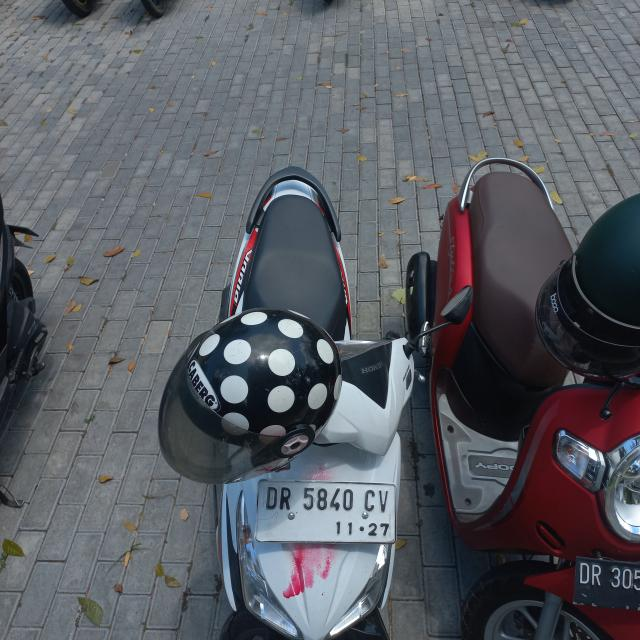plate: (256, 477, 396, 545), (571, 556, 640, 611)
